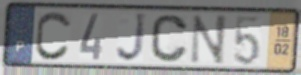4: (78, 12, 104, 62)
5: (232, 14, 263, 66)
C: (33, 9, 73, 62), (149, 13, 190, 64)
J: (114, 11, 148, 64)
N: (188, 13, 229, 66)
